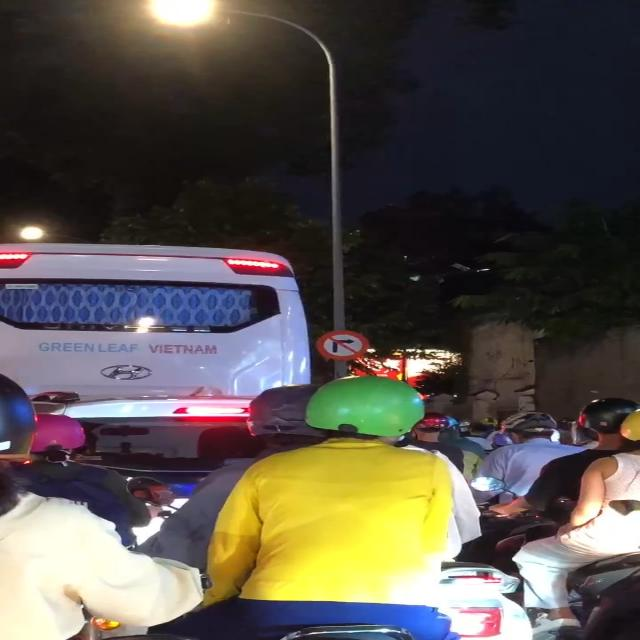Bien bao cam re phai: (315, 326, 374, 365)
